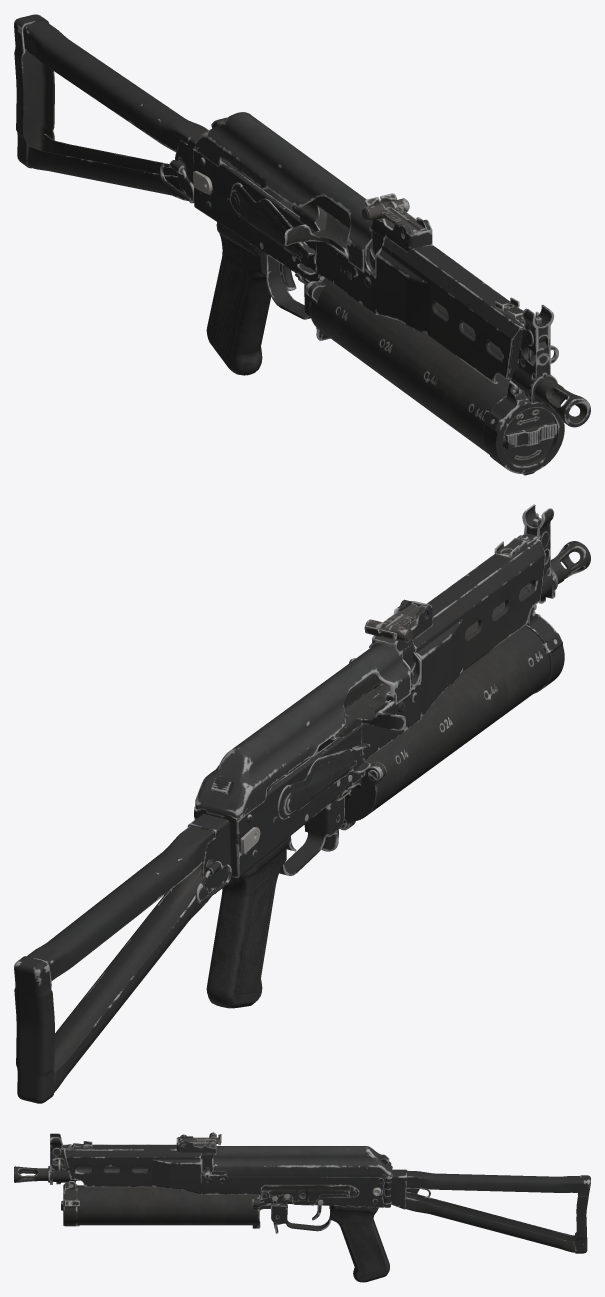
The model's file is bizon.glb.
3 renders of one model, top to bottom at view 1: azimuth 30°, elevation 25°; view 2: azimuth 150°, elevation 25°; view 3: azimuth 270°, elevation 25°, orthographic. The views are drawn at different scales.
Visible parts, largest first — view 1: Bizon_CS2; view 2: Bizon_CS2; view 3: Bizon_CS2.
Part boxes in pixels (x1,y1,x2,y2): Bizon_CS2: [14, 14, 590, 475]; Bizon_CS2: [14, 504, 590, 1103]; Bizon_CS2: [14, 1132, 590, 1282].
Size of the model in its own units: 0.0861 by 0.2232 by 0.8008.
1 material, 1 textured.
